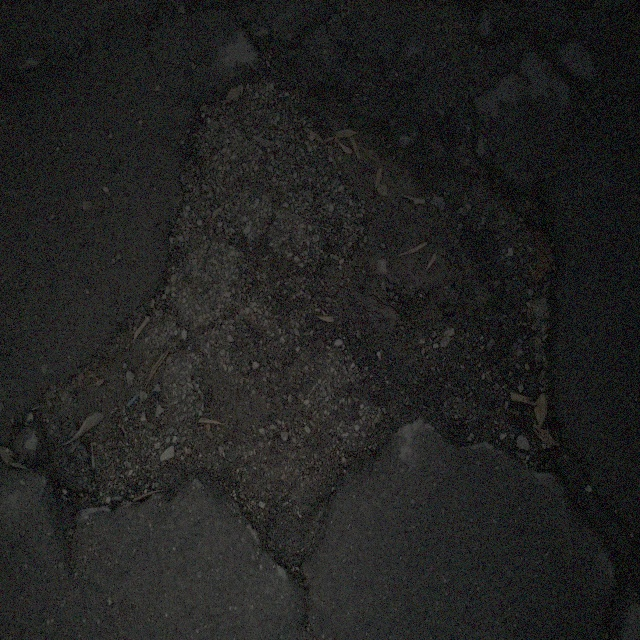pothole: (45, 73, 578, 590)
